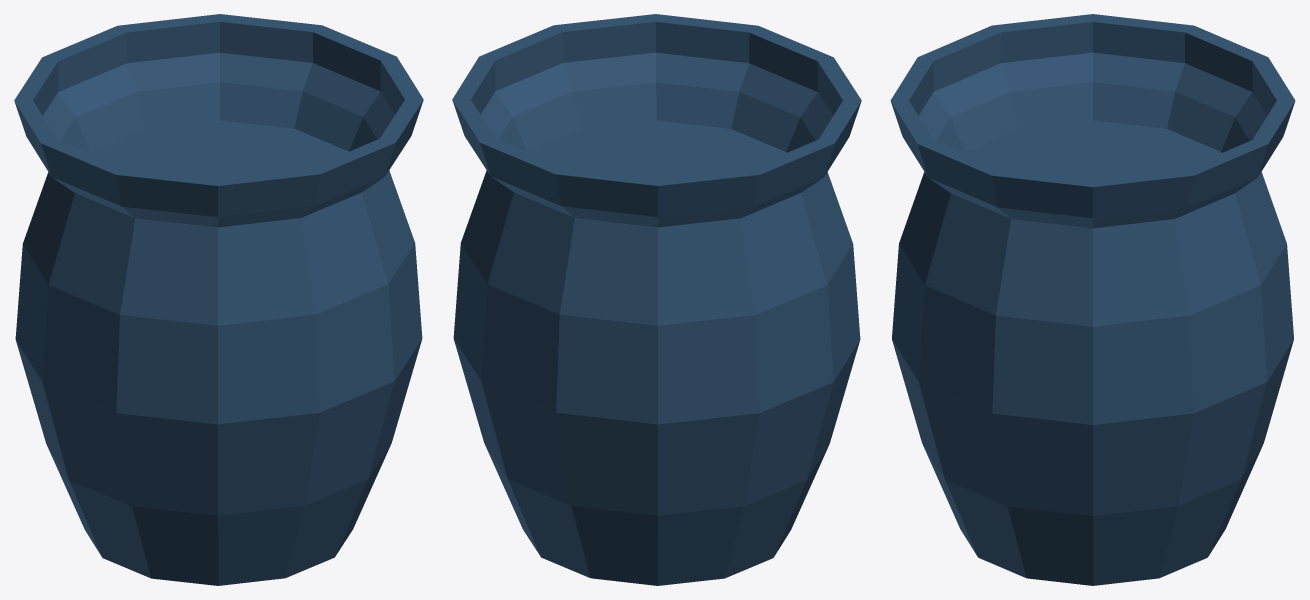
The model's file is Vaso_PIECES.fbx.
3 views of the same model, side by side, from view 1: azimuth 30°, elevation 25°; view 2: azimuth 150°, elevation 25°; view 3: azimuth 270°, elevation 25° (orthographic).
Visible parts, largest first — view 1: Vaso Piece 20, Vaso Piece 9, Vaso Piece 3, Vaso Piece 4, Vaso Piece 6, Vaso Piece 7, Vaso Piece 1, Vaso Piece 16, Vaso Piece 17, Vaso Piece 5, Vaso Piece 21, Vaso Piece 8 (+4 smaller); view 2: Vaso Piece 11, Vaso Piece 10, Vaso Piece 6, Vaso Piece 5, Vaso Piece 3, Vaso Piece 21, Vaso Piece 1, Vaso Piece 14, Vaso Piece 18, Vaso Piece 7, Vaso Piece 4, Vaso Piece 12 (+4 smaller); view 3: Vaso Piece 8, Vaso Piece 12, Vaso Piece 21, Vaso Piece 7, Vaso Piece 4, Vaso Piece 5, Vaso Piece 1, Vaso Piece 13, Vaso Piece 15, Vaso Piece 3, Vaso Piece 6, Vaso Piece 20 (+3 smaller).
Boxes of the visible parts, left/top/right/bottom form: Vaso Piece 20: left=218, top=284, right=394, bottom=515; Vaso Piece 9: left=42, top=285, right=217, bottom=515; Vaso Piece 3: left=218, top=139, right=395, bottom=325; Vaso Piece 4: left=41, top=139, right=217, bottom=325; Vaso Piece 6: left=42, top=14, right=219, bottom=151; Vaso Piece 7: left=219, top=14, right=396, bottom=151; Vaso Piece 1: left=89, top=120, right=348, bottom=178; Vaso Piece 16: left=218, top=479, right=367, bottom=585; Vaso Piece 17: left=69, top=480, right=218, bottom=585; Vaso Piece 5: left=14, top=57, right=89, bottom=284; Vaso Piece 21: left=349, top=56, right=423, bottom=283; Vaso Piece 8: left=368, top=243, right=422, bottom=478; Vaso Piece 11: left=481, top=284, right=657, bottom=515; Vaso Piece 10: left=658, top=285, right=833, bottom=515; Vaso Piece 6: left=480, top=139, right=657, bottom=325; Vaso Piece 5: left=658, top=139, right=834, bottom=325; Vaso Piece 3: left=656, top=14, right=833, bottom=151; Vaso Piece 21: left=479, top=14, right=656, bottom=151; Vaso Piece 1: left=527, top=120, right=786, bottom=178; Vaso Piece 14: left=508, top=479, right=657, bottom=585; Vaso Piece 18: left=657, top=480, right=806, bottom=585; Vaso Piece 7: left=452, top=56, right=526, bottom=283; Vaso Piece 4: left=786, top=57, right=861, bottom=284; Vaso Piece 12: left=453, top=243, right=507, bottom=478; Vaso Piece 8: left=918, top=285, right=1092, bottom=515; Vaso Piece 12: left=1093, top=285, right=1267, bottom=515; Vaso Piece 21: left=917, top=140, right=1092, bottom=326; Vaso Piece 7: left=1093, top=140, right=1268, bottom=326; Vaso Piece 4: left=918, top=14, right=1092, bottom=151; Vaso Piece 5: left=1093, top=14, right=1267, bottom=151; Vaso Piece 1: left=964, top=120, right=1221, bottom=179; Vaso Piece 13: left=1093, top=479, right=1240, bottom=585; Vaso Piece 15: left=945, top=479, right=1092, bottom=585; Vaso Piece 3: left=890, top=57, right=964, bottom=284; Vaso Piece 6: left=1221, top=57, right=1295, bottom=284; Vaso Piece 20: left=892, top=244, right=944, bottom=478.
Size of the model in its own units: 61.79 by 71.29 by 61.06.
